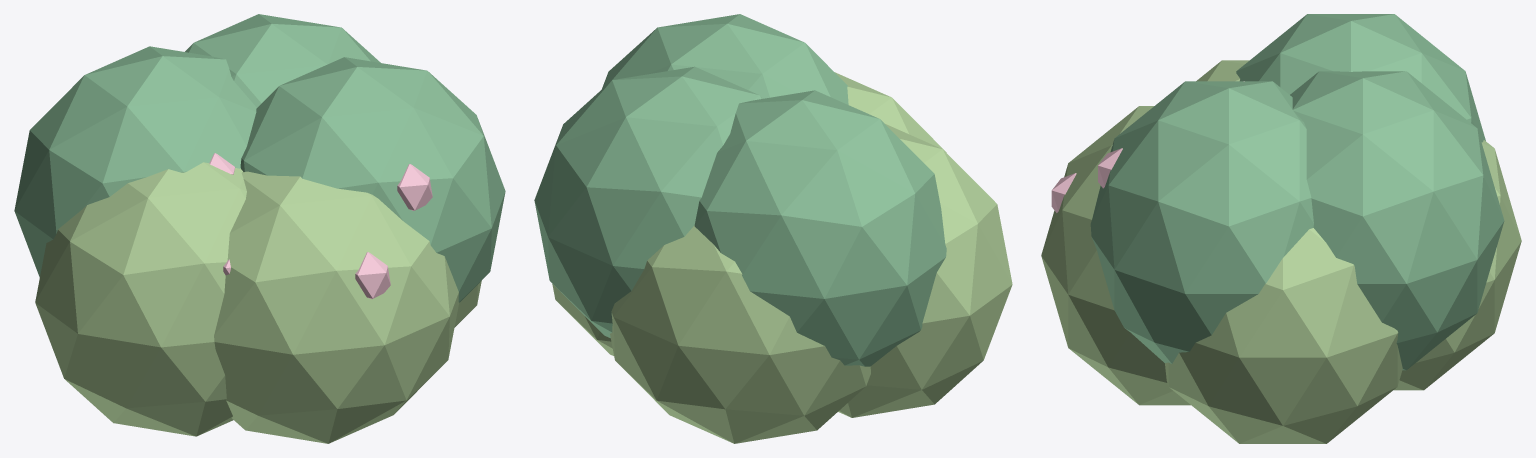
The model's file is flower_bush.glb.
The picture shows the model from 3 angles, left to right: view 1: azimuth 30°, elevation 25°; view 2: azimuth 150°, elevation 25°; view 3: azimuth 270°, elevation 25°; orthographic projection. The views are drawn at different scales.
Parts seen in each view (by area): view 1: flower_bush_004, flower_bush_008, flower_bush_010, flower_bush_002, flower_bush_006, flower_bush_011, flower_bush_005; view 2: flower_bush_002, flower_bush_006, flower_bush_012, flower_bush_008, flower_bush_010, flower_bush_004, flower_bush_000; view 3: flower_bush_010, flower_bush_006, flower_bush_000, flower_bush_004, flower_bush_002, flower_bush_012, flower_bush_008, flower_bush_005.
Boxes of the visible parts, left/top/right/bottom form: flower_bush_004: left=214, top=171, right=459, bottom=443; flower_bush_008: left=35, top=162, right=246, bottom=436; flower_bush_010: left=240, top=57, right=505, bottom=302; flower_bush_002: left=14, top=46, right=256, bottom=277; flower_bush_006: left=185, top=14, right=380, bottom=107; flower_bush_011: left=397, top=164, right=432, bottom=210; flower_bush_005: left=355, top=252, right=390, bottom=298; flower_bush_002: left=694, top=90, right=946, bottom=366; flower_bush_006: left=534, top=66, right=762, bottom=337; flower_bush_012: left=610, top=225, right=870, bottom=443; flower_bush_008: left=838, top=123, right=1012, bottom=417; flower_bush_010: left=602, top=14, right=848, bottom=104; flower_bush_004: left=834, top=72, right=946, bottom=152; flower_bush_000: left=552, top=284, right=613, bottom=355; flower_bush_010: left=1090, top=81, right=1313, bottom=363; flower_bush_006: left=1290, top=71, right=1504, bottom=370; flower_bush_000: left=1165, top=228, right=1402, bottom=443; flower_bush_004: left=1041, top=106, right=1190, bottom=405; flower_bush_002: left=1236, top=14, right=1485, bottom=142; flower_bush_012: left=1393, top=140, right=1521, bottom=390; flower_bush_008: left=1196, top=60, right=1249, bottom=81; flower_bush_005: left=1051, top=173, right=1076, bottom=212.
Bounding box in the file's own units: 1.59 × 1.2 × 1.53.
